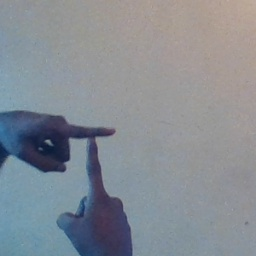T: (42, 105, 136, 228)
